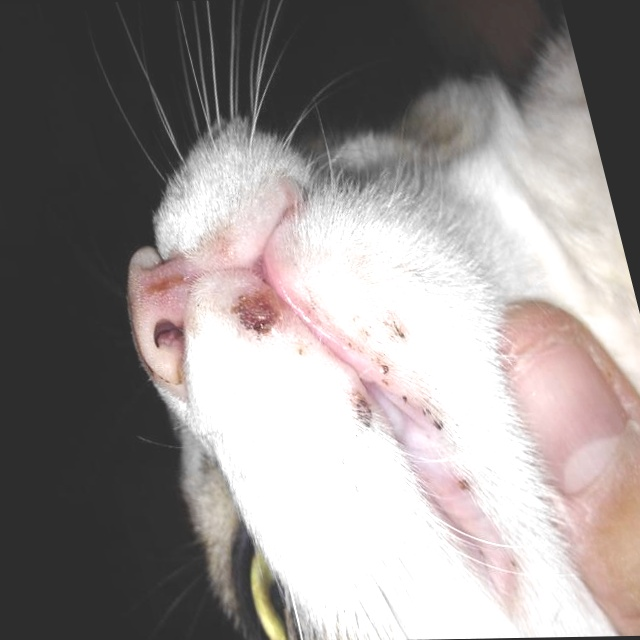acne: (346, 389, 377, 430), (383, 315, 417, 343)
